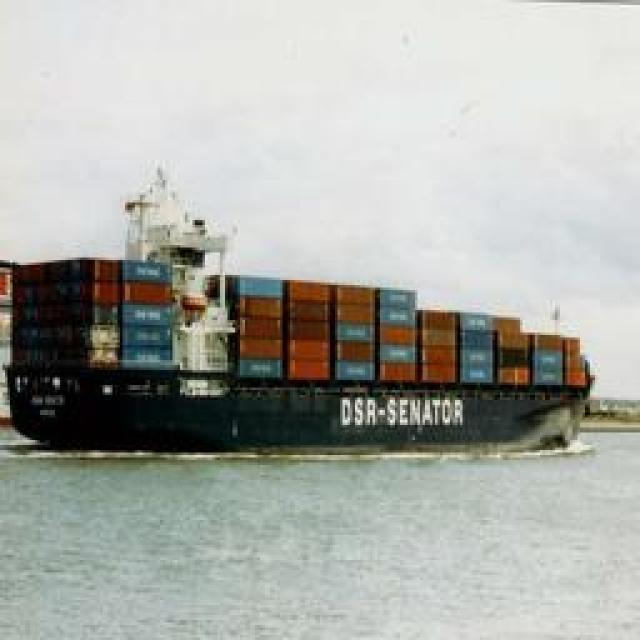CIV_Ship: (2, 200, 588, 438)
